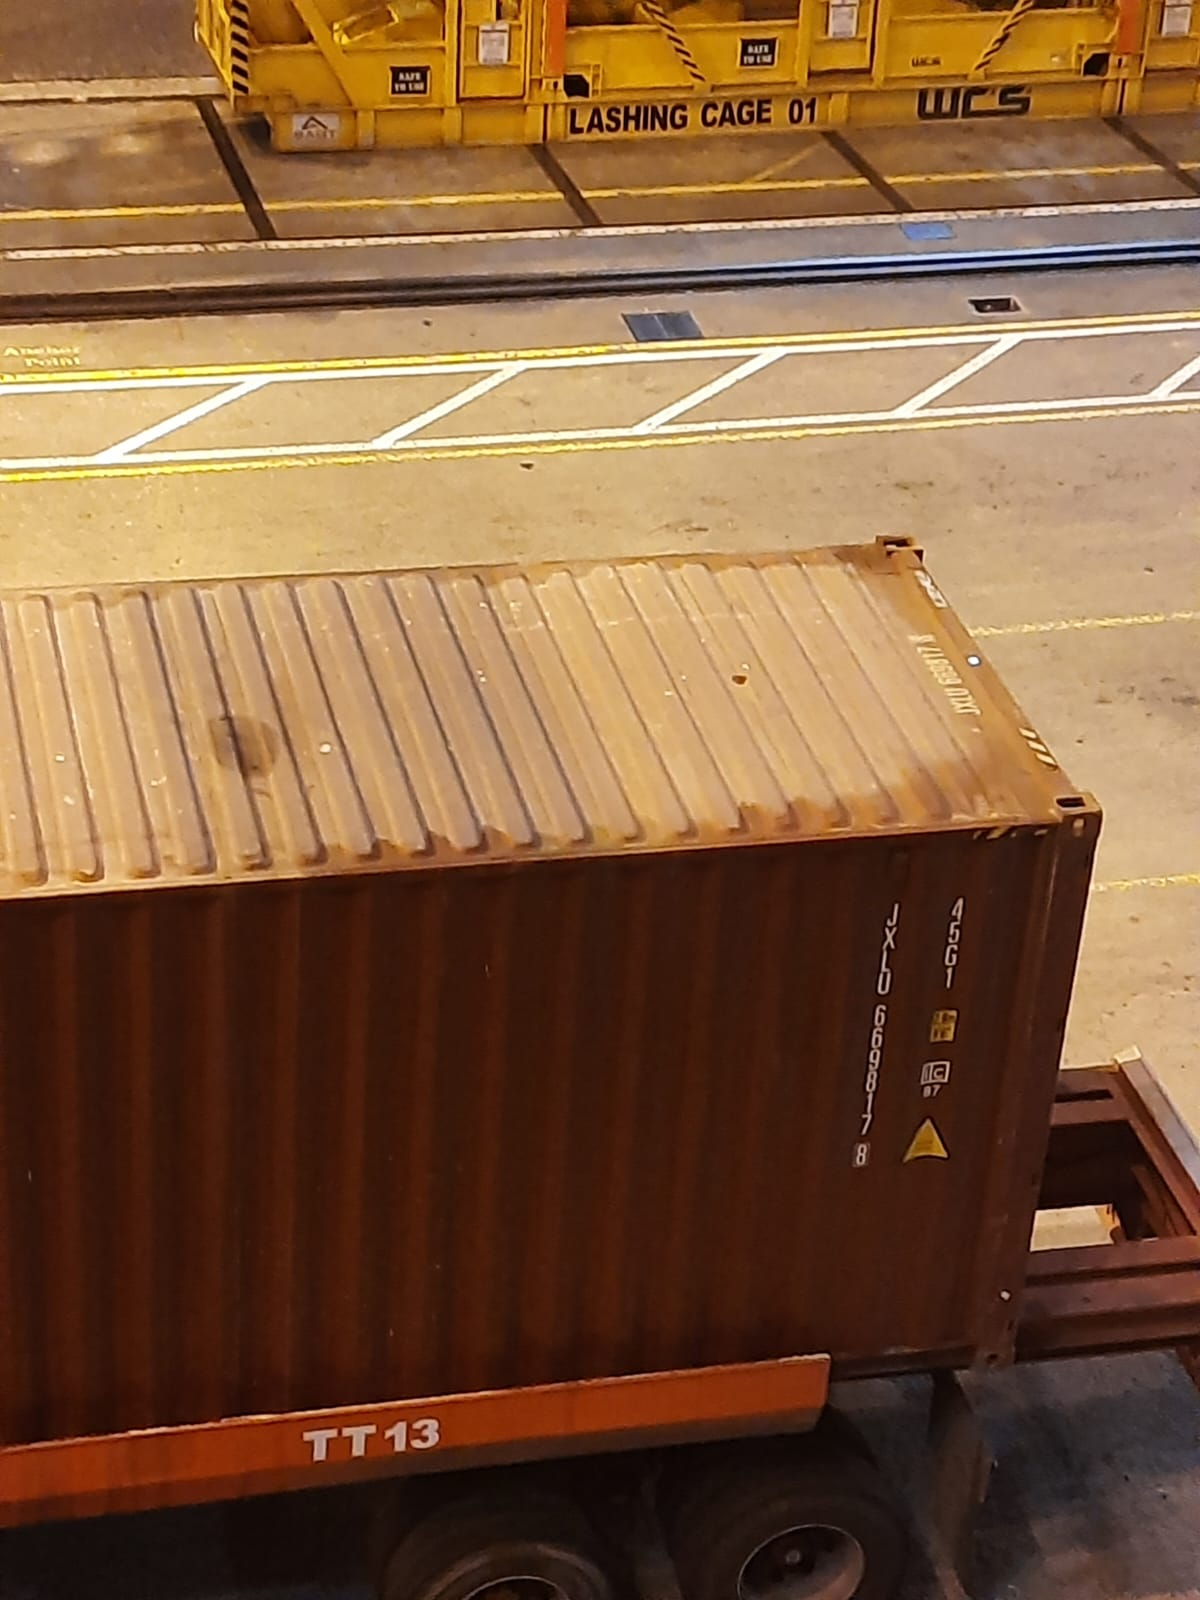severe: (713, 654, 753, 699)
